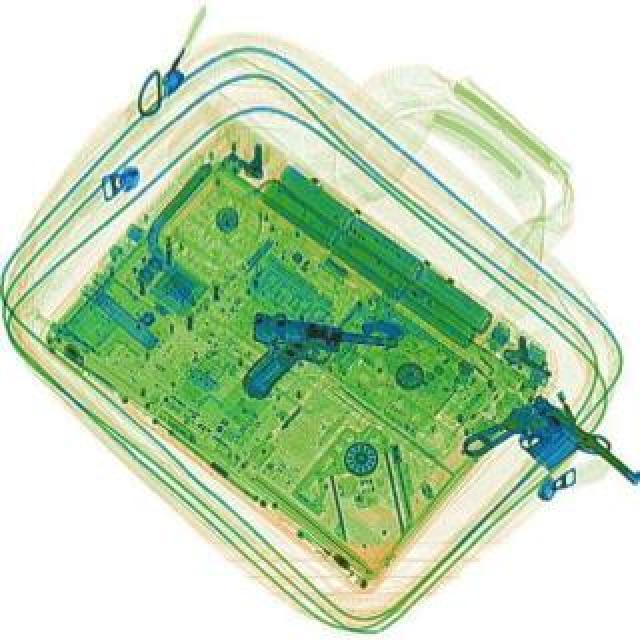gun: (452, 376, 638, 542), (238, 308, 398, 412)
